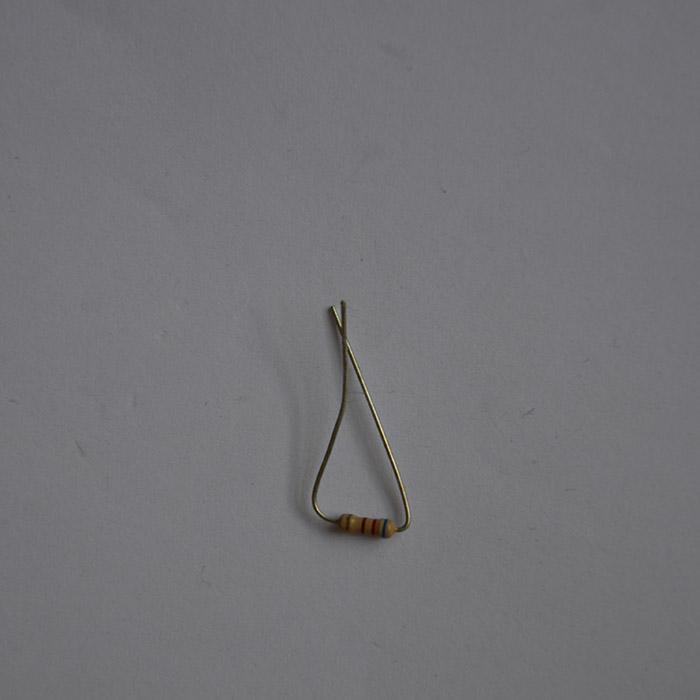resistor: (336, 512, 397, 537)
